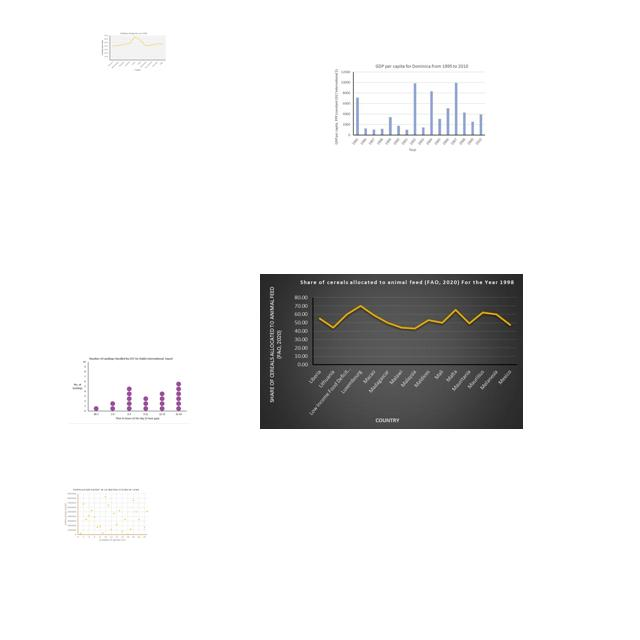Graph: (260, 274, 523, 429), (332, 60, 487, 153), (69, 353, 190, 424), (64, 487, 150, 542), (101, 32, 167, 71)
